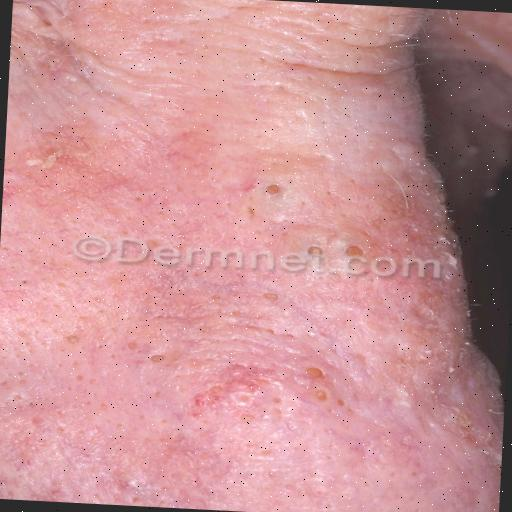Skin_Lesion: (187, 362, 280, 417), (290, 231, 388, 279), (0, 405, 51, 479), (238, 165, 304, 218), (426, 418, 504, 460), (24, 33, 80, 89), (296, 360, 351, 414), (86, 464, 162, 502), (136, 263, 204, 300), (387, 298, 453, 330), (26, 148, 88, 182), (158, 138, 212, 170), (418, 184, 462, 218), (132, 343, 176, 375), (256, 281, 301, 312), (49, 326, 98, 354), (2, 276, 44, 306), (422, 254, 470, 280), (201, 446, 259, 467), (379, 385, 415, 418), (340, 441, 373, 454)
